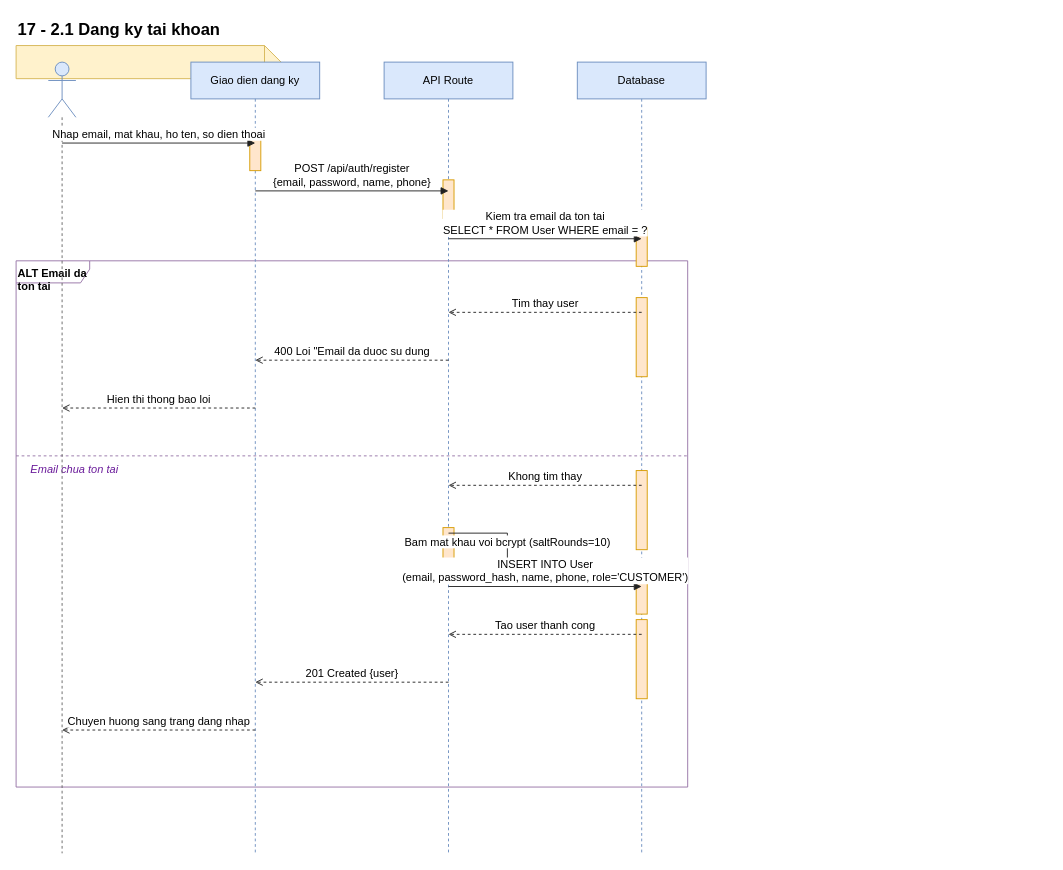
Some shapes in this 1063 by 870 pixel diagram are drawn without their labels. Each missing label, with the centre of its shape:
"Khach vang lai" goes at pixel 61 89.
"Mermaid sequence source: PHAN_TICH_THIET_KE_HE_THONG.md:860" goes at pixel 153 62.
